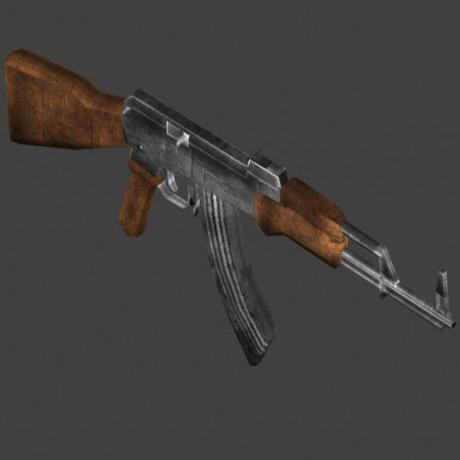weapon: (0, 42, 460, 352)
